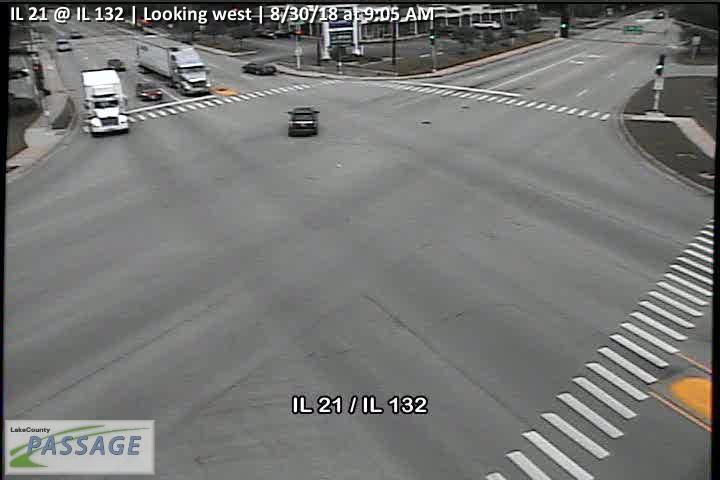SUV: (287, 105, 320, 137)
Sedan: (136, 81, 162, 102), (239, 62, 278, 76), (107, 59, 125, 71)
Truck: (136, 34, 210, 96), (81, 69, 128, 137)
